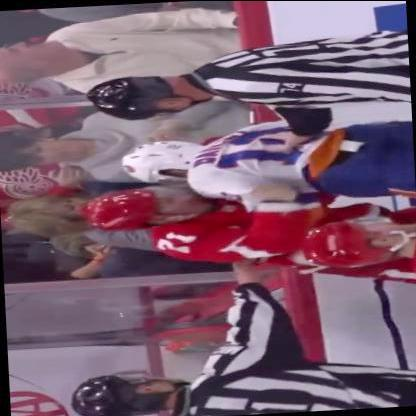non-Voilence: (84, 34, 410, 134), (63, 339, 415, 416)
voilence: (83, 112, 415, 271)
